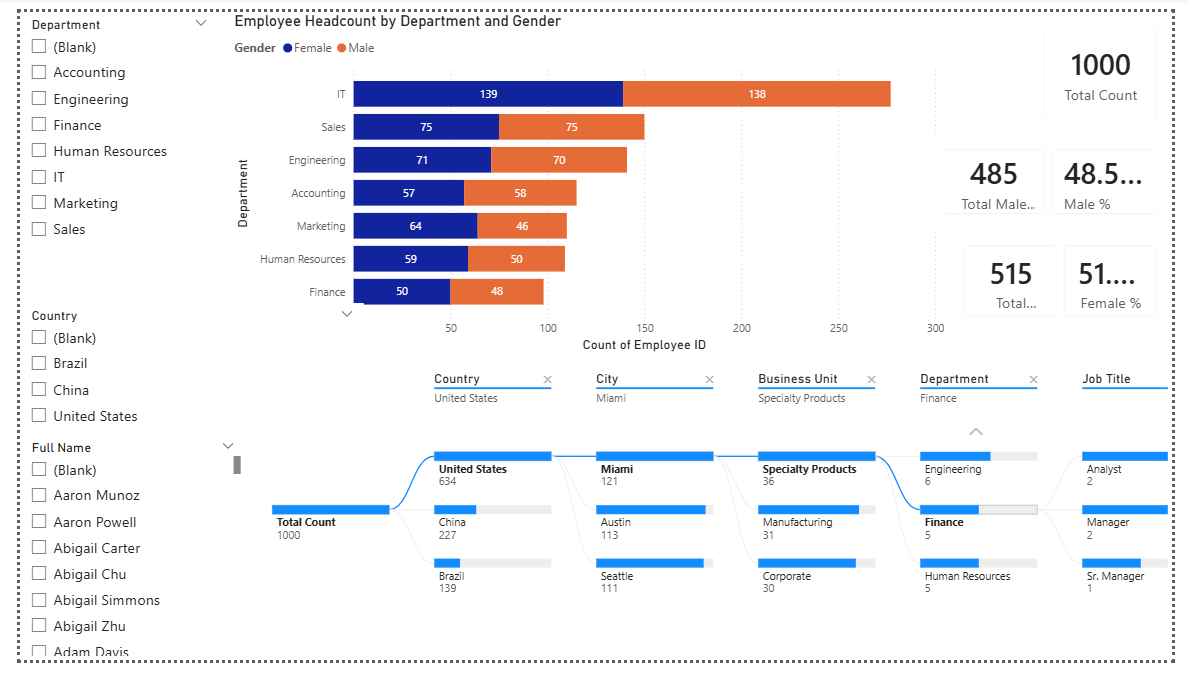

What the dashboard file says about the page in this screenshot:
{"tool":"powerbi","page":{"name":"Page 2","canvas":[1280,720],"ordinal":1},"visuals":[{"type":"barChart","title":"Employee Headcount  by Department and Gender","fields":{"Category":["Employee Data.Department"],"Y":["CountNonNull(Employee Data.Employee ID)"],"Series":["Employee Data.Gender"]},"box":[233.2,0,798.3,382.1],"z":0},{"type":"cardVisual","fields":{"Data":["Employee Data.Total Count"]},"box":[1120,0,160,135],"z":1000},{"type":"cardVisual","fields":{"Data":["Employee Data.Total Male count 1","Employee Data.Male %"]},"box":[1007.2,134.4,273.6,106.9],"z":2000},{"type":"cardVisual","fields":{"Data":["Employee Data.Total Female count 1","Employee Data.Female %"]},"box":[1031.4,241.3,249.4,115],"z":3000},{"type":"decompositionTreeVisual","fields":{"Analyze":["Employee Data.Total Count"],"ExplainBy":["Employee Data.Country","Employee Data.City","Employee Data.Business Unit","Employee Data.Department","Employee Data.Job Title","Employee Data.Gender"]},"box":[250,381.7,1030,275],"z":4000},{"type":"slicer","fields":{"Values":["Employee Data.Department"]},"box":[0,0,220,323.3],"z":5000},{"type":"slicer","fields":{"Values":["Employee Data.Country"]},"box":[0,323.8,382.1,145.7],"z":6000},{"type":"slicer","fields":{"Values":["Employee Data.Full Name"]},"box":[0,470,250,250],"z":7000},{"type":"cardVisual","fields":{"Rows":["Query1.Last Refresh.Variation.Date Hierarchy.Year"],"Data":["Min(Query1.Last Refresh)"]},"box":[851.7,0,348.3,91.7],"z":8000}]}

Visuals, with their boxes in screenshot pixels (x1, y1, x2, y2), scaled from the page's 1280x720 canvas onto the 1187x675 screenshot:
"Employee Headcount  by Department and Gender" barChart: x1=216 y1=0 x2=957 y2=358
cardVisual - Employee Data.Total Count: x1=1039 y1=0 x2=1186 y2=127
cardVisual - Employee Data.Total Male count 1 x Employee Data.Male %: x1=934 y1=126 x2=1186 y2=226
cardVisual - Employee Data.Total Female count 1 x Employee Data.Female %: x1=956 y1=226 x2=1186 y2=334
decompositionTreeVisual - Employee Data.Total Count x Employee Data.Country: x1=232 y1=358 x2=1186 y2=616
slicer - Employee Data.Department: x1=0 y1=0 x2=204 y2=303
slicer - Employee Data.Country: x1=0 y1=304 x2=354 y2=440
slicer - Employee Data.Full Name: x1=0 y1=441 x2=232 y2=674
cardVisual - Query1.Last Refresh.Variation.Date Hierarchy.Year x Min(Query1.Last Refresh): x1=790 y1=0 x2=1113 y2=86
